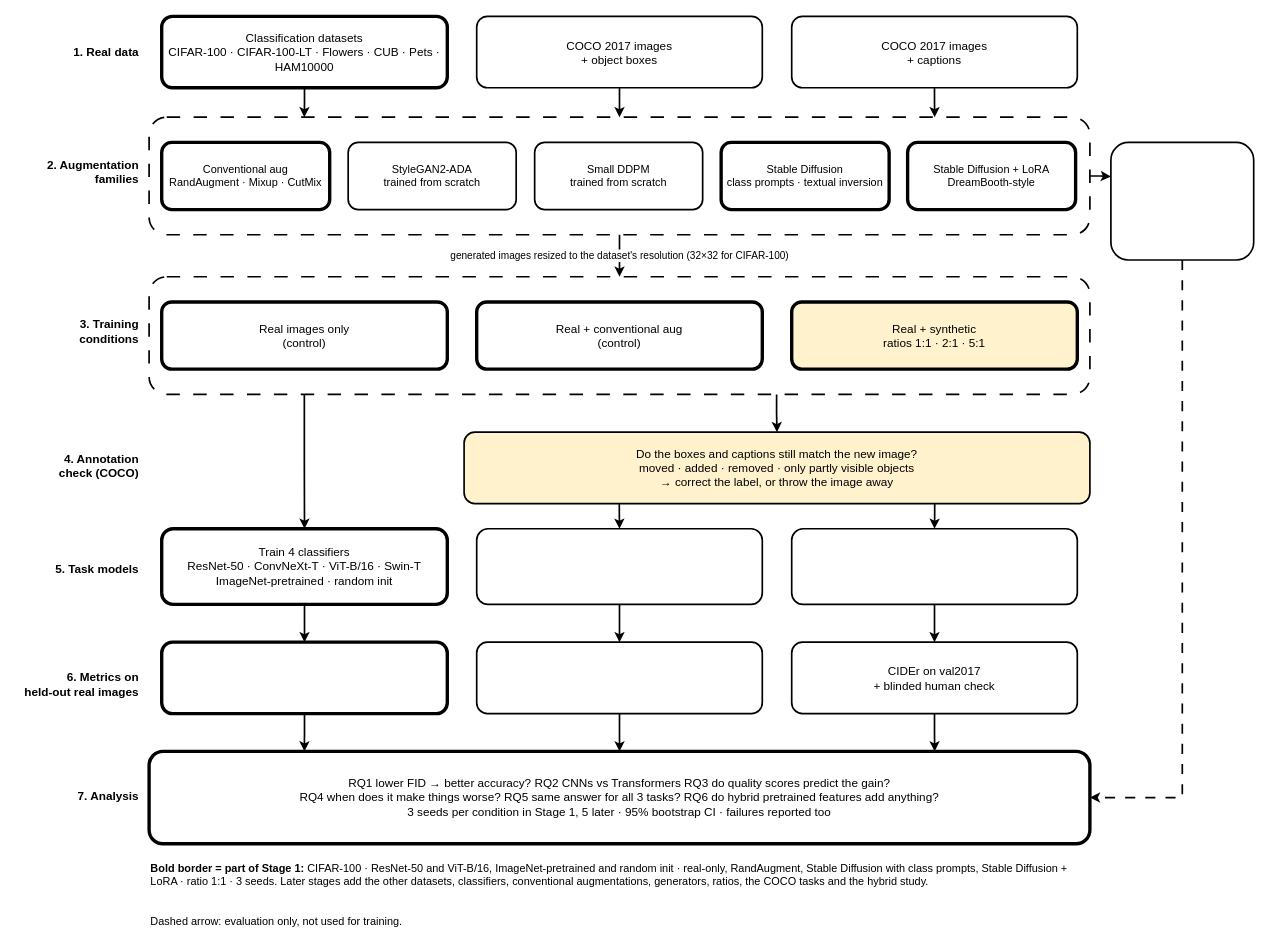
Image size: 1268x942. Some labels were removed from this diagram. The box of each missing label's shape, as (x1, y1, x2, y2) in pixels:
AP on val2017 IoU 0.50-0.95 · AP50 · AP75: (475, 641, 763, 714)
Measure the fake images FID Precision & Recall: (1110, 141, 1254, 260)
Top-1 accuracy macro-F1 · balanced acc · per-class recall: (160, 640, 449, 715)
Train captioner same decoder & budget: (790, 528, 1078, 605)
Train detector same backbone & budget: (475, 528, 763, 605)
